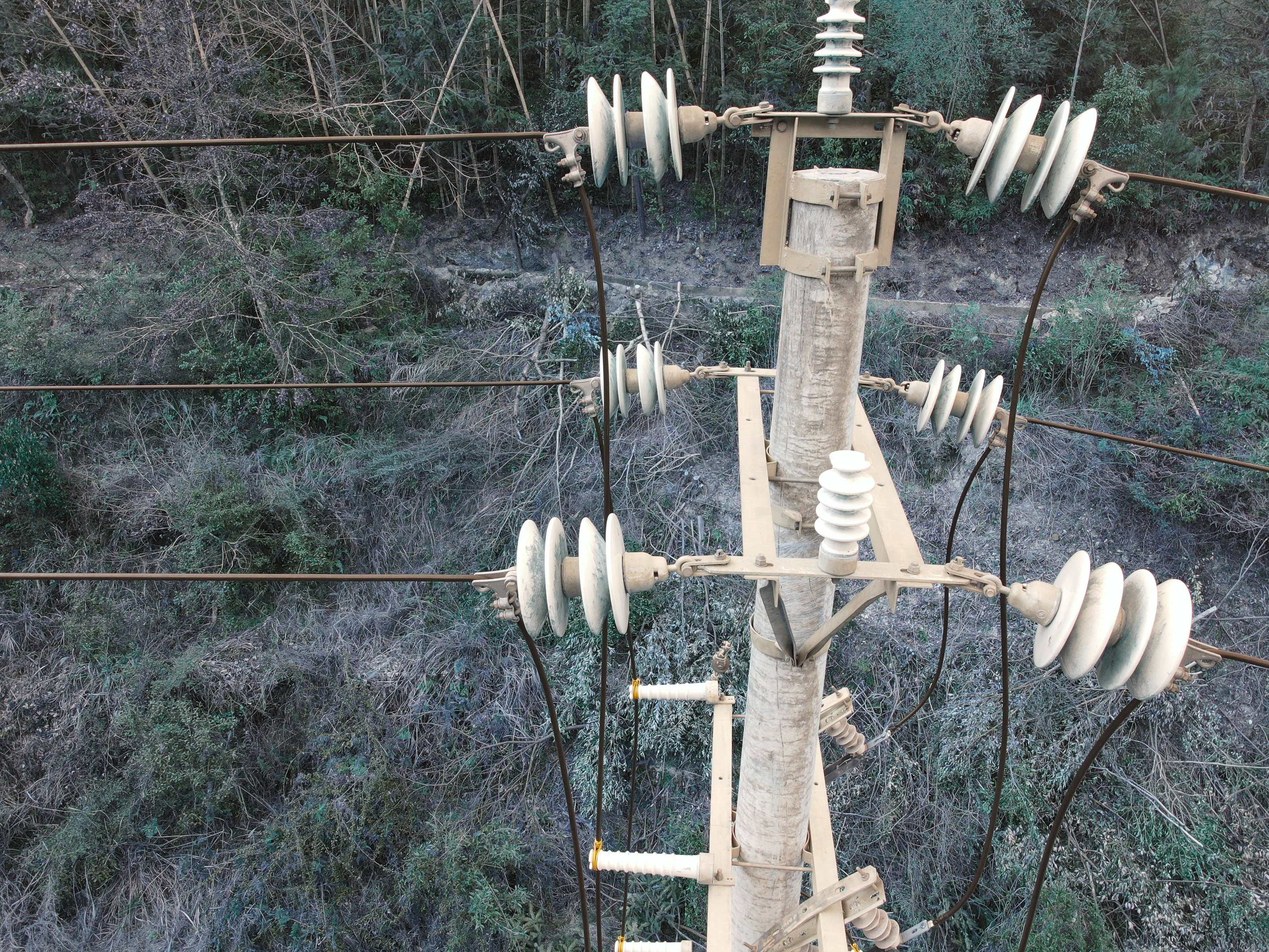severe_soiling_no_discharge_whole: (999, 548, 1198, 699), (949, 83, 1100, 221), (510, 510, 673, 637), (583, 66, 717, 188), (897, 358, 1008, 448), (808, 449, 879, 576), (810, 2, 868, 112), (609, 338, 687, 419)
